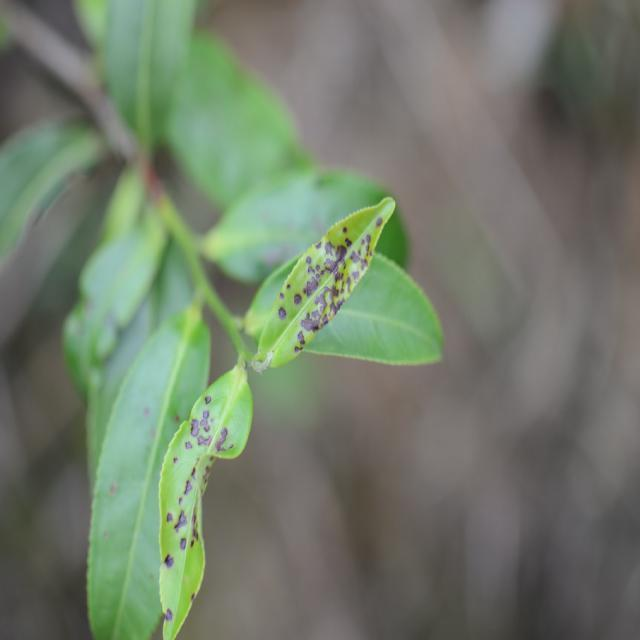Tea red scab: (276, 221, 374, 345), (168, 473, 218, 571), (190, 402, 235, 470)
